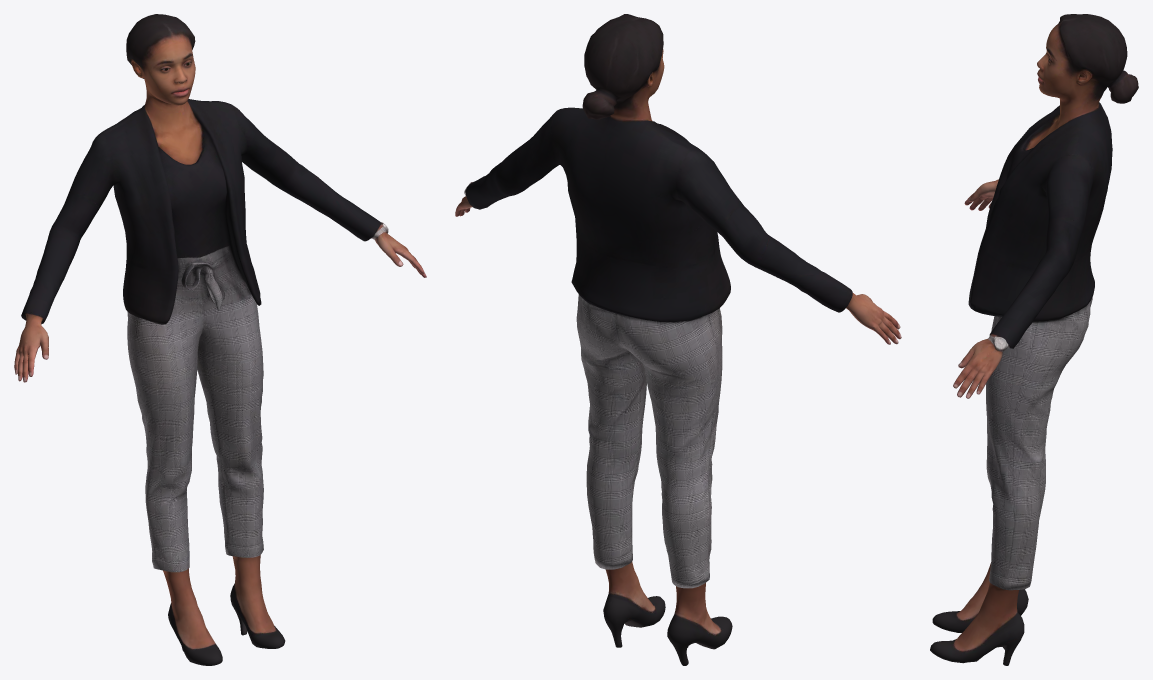
Rendered from person-sitting-1.glb.
The picture shows the model from 3 angles, left to right: view 1: azimuth 30°, elevation 25°; view 2: azimuth 150°, elevation 25°; view 3: azimuth 270°, elevation 25°; orthographic projection. The views are drawn at different scales.
Visible parts, largest first — view 1: rp_carla_rigged_001_geo_rp_carla_rigged_001_mat_0; view 2: rp_carla_rigged_001_geo_rp_carla_rigged_001_mat_0; view 3: rp_carla_rigged_001_geo_rp_carla_rigged_001_mat_0.
Boxes of the visible parts, bbox=[...] form: rp_carla_rigged_001_geo_rp_carla_rigged_001_mat_0: bbox=[14, 14, 426, 665]; rp_carla_rigged_001_geo_rp_carla_rigged_001_mat_0: bbox=[455, 14, 901, 665]; rp_carla_rigged_001_geo_rp_carla_rigged_001_mat_0: bbox=[930, 14, 1138, 665].
Size of the model in its own units: 0.8604 by 1.24 by 0.3739.
1 material, 1 textured.
